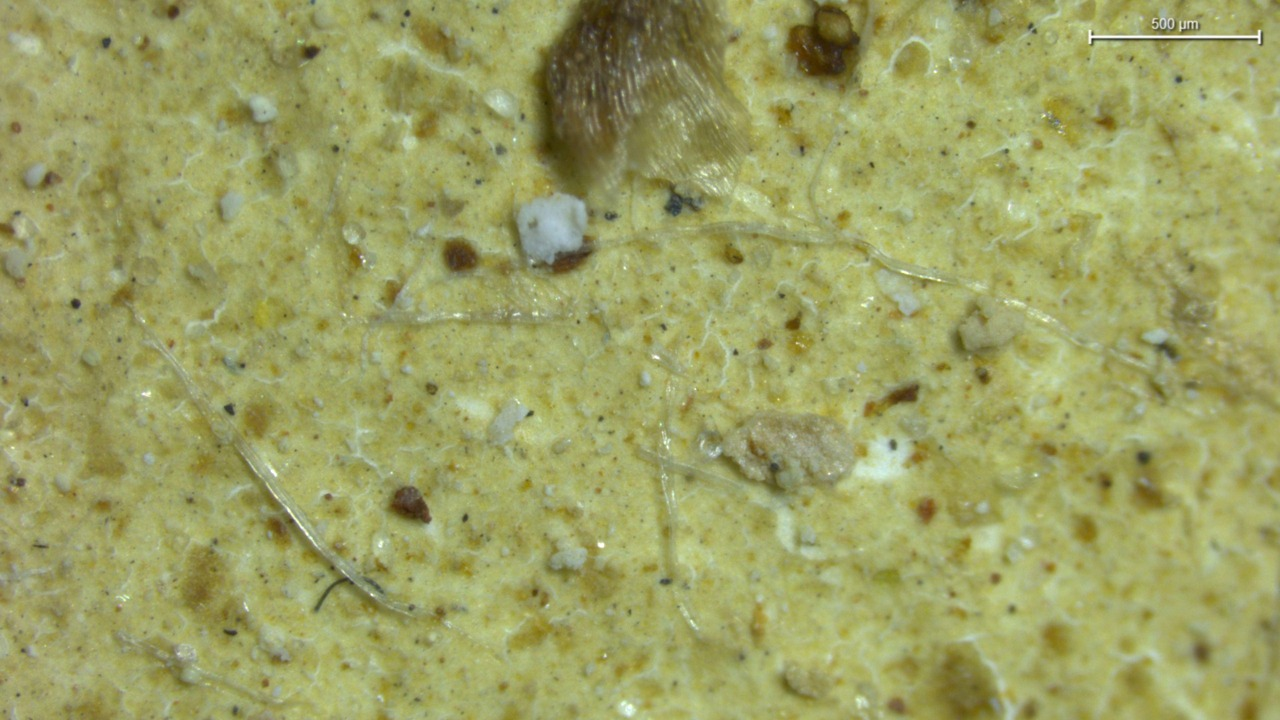microplastic_fragment: (720, 411, 855, 490), (515, 192, 587, 264), (957, 296, 1026, 353), (874, 269, 921, 316), (248, 95, 278, 124)
